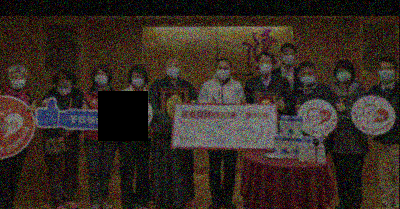with_mask: (8, 73, 26, 90), (379, 65, 395, 81), (215, 64, 230, 81), (258, 58, 272, 75), (55, 82, 72, 96), (299, 70, 314, 85), (165, 62, 179, 78), (336, 68, 350, 83), (94, 71, 108, 86), (281, 50, 294, 66), (131, 73, 144, 87)
